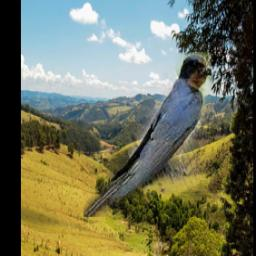Swallow: (84, 52, 212, 217)
